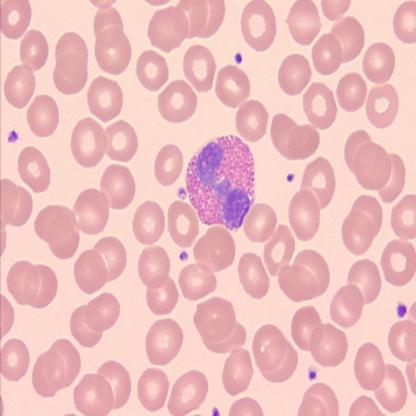Eosinophil: (186, 134, 256, 229)
